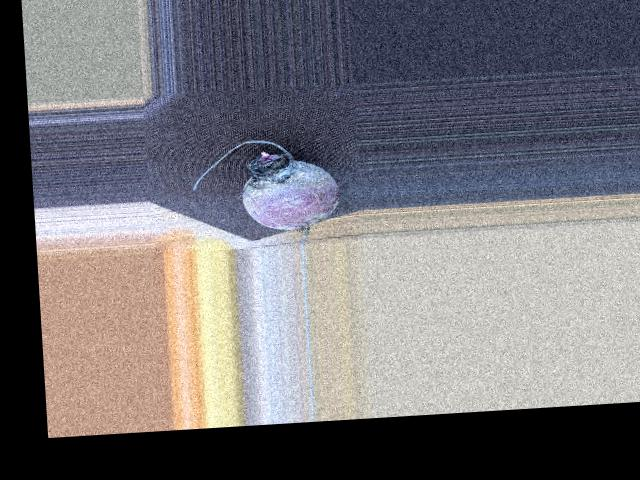beet: (190, 134, 343, 251)
